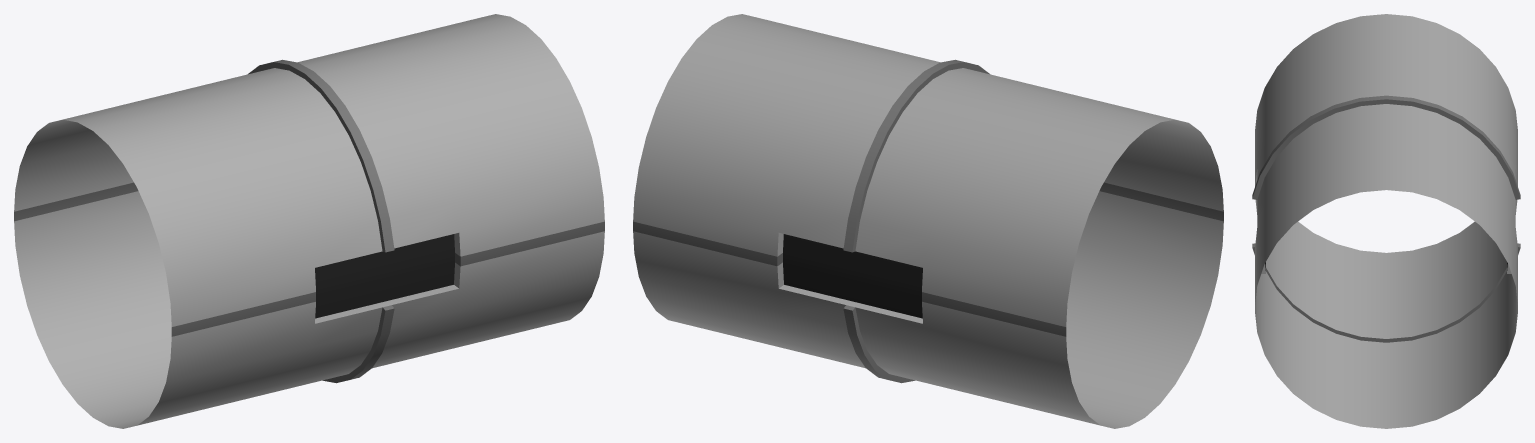
Rendered from connector.glb.
3 views of the same model, side by side, from view 1: azimuth 30°, elevation 25°; view 2: azimuth 150°, elevation 25°; view 3: azimuth 270°, elevation 25° (orthographic). The views are drawn at different scales.
Visible parts, largest first — view 1: Connector; view 2: Connector; view 3: Connector.
Boxes of the visible parts, x1,y1,x2,y2 form: Connector: (14, 14, 604, 428); Connector: (633, 14, 1223, 428); Connector: (1252, 14, 1520, 428).
Size of the model in its own units: 3.37 by 2.21 by 2.17.
Materials: 1 (1 with a texture image).
